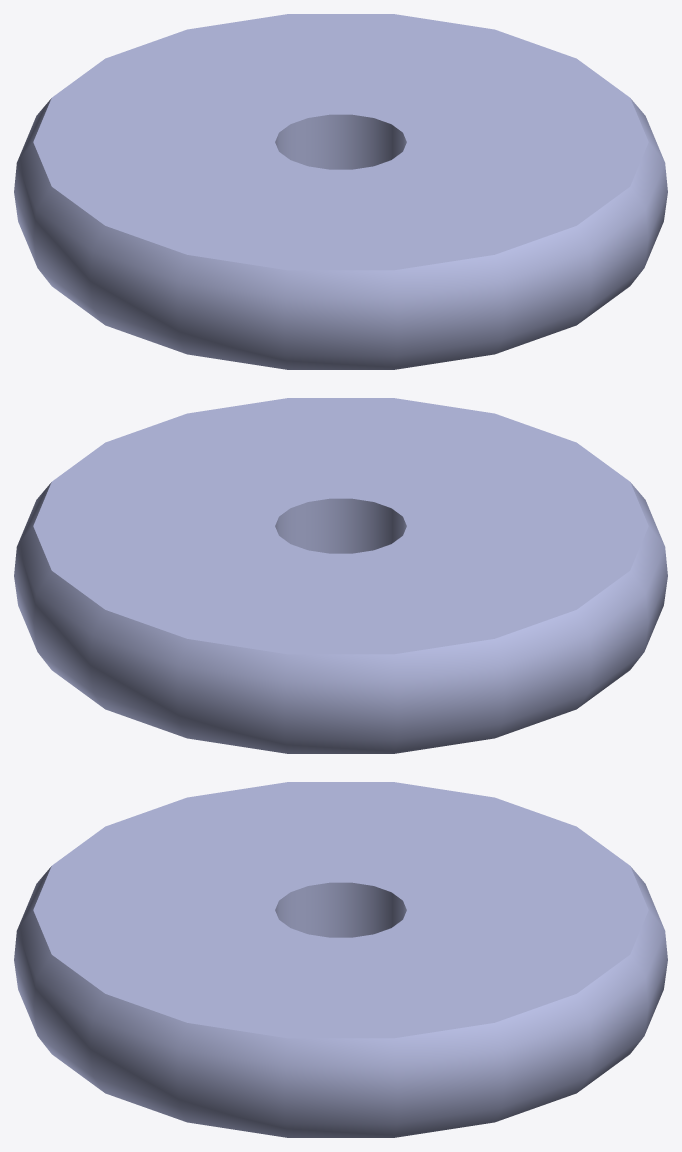
The model's file is ThrowProp_RainbowStackerRing_03.FBX.
3 views of the same model, one above another, from view 1: azimuth 30°, elevation 25°; view 2: azimuth 150°, elevation 25°; view 3: azimuth 270°, elevation 25° (orthographic).
Visible parts, largest first — view 1: RainbowStackerRing_03; view 2: RainbowStackerRing_03; view 3: RainbowStackerRing_03.
Part boxes in pixels (bbox=[...]): RainbowStackerRing_03: bbox=[14, 14, 667, 369]; RainbowStackerRing_03: bbox=[14, 398, 667, 753]; RainbowStackerRing_03: bbox=[14, 782, 667, 1137].
Size of the model in its own units: 14.65 by 2.5 by 14.88.
1 material, 1 textured.
